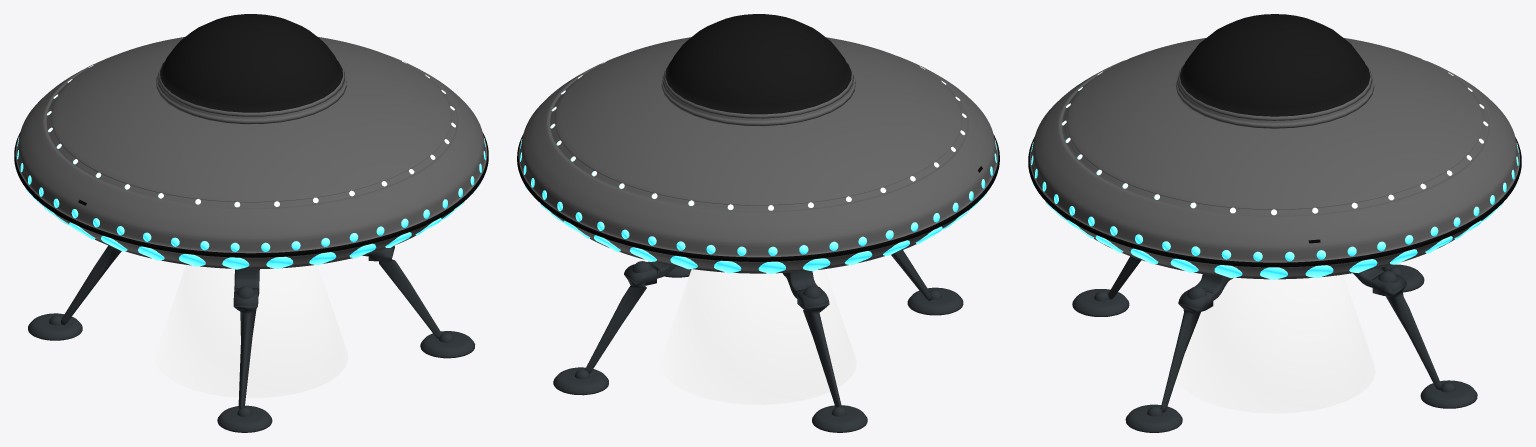
Rendered from ufo.glb.
3 views of the same model, side by side, from view 1: azimuth 30°, elevation 25°; view 2: azimuth 150°, elevation 25°; view 3: azimuth 270°, elevation 25° (orthographic). The views are drawn at different scales.
Parts seen in each view (by area): view 1: Cube.002; view 2: Cube.002; view 3: Cube.002.
Part boxes in pixels (bbox=[...]): Cube.002: bbox=[14, 14, 488, 432]; Cube.002: bbox=[517, 14, 999, 432]; Cube.002: bbox=[1028, 14, 1521, 432].
Size of the model in its own units: 1.84 by 1.43 by 1.84.
